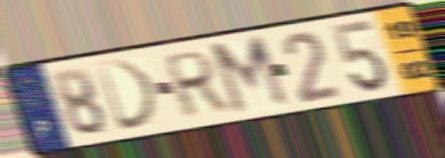2: (281, 28, 346, 107)
5: (328, 17, 391, 95)
8: (52, 66, 109, 138)
D: (92, 57, 160, 135)
M: (206, 32, 294, 119)
R: (162, 47, 231, 122)
